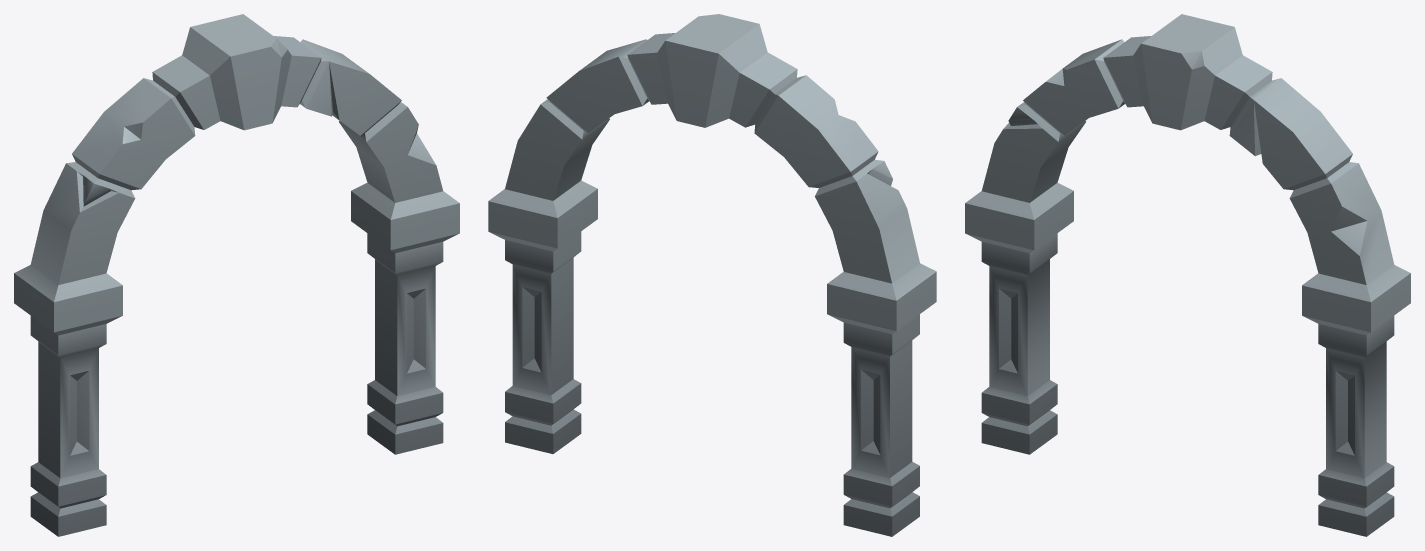
Rendered from Arch.glb.
The picture shows the model from 3 angles, left to right: view 1: azimuth 30°, elevation 25°; view 2: azimuth 150°, elevation 25°; view 3: azimuth 330°, elevation 25°; orthographic projection.
Visible parts, largest first — view 1: arch; view 2: arch; view 3: arch.
Part boxes in pixels (x1=…): arch: x1=14, y1=14, x2=459, y2=536; arch: x1=488, y1=14, x2=936, y2=536; arch: x1=965, y1=14, x2=1410, y2=536.
Size of the model in its own units: 4.22 by 4.41 by 0.7699.
1 material, 1 textured.
